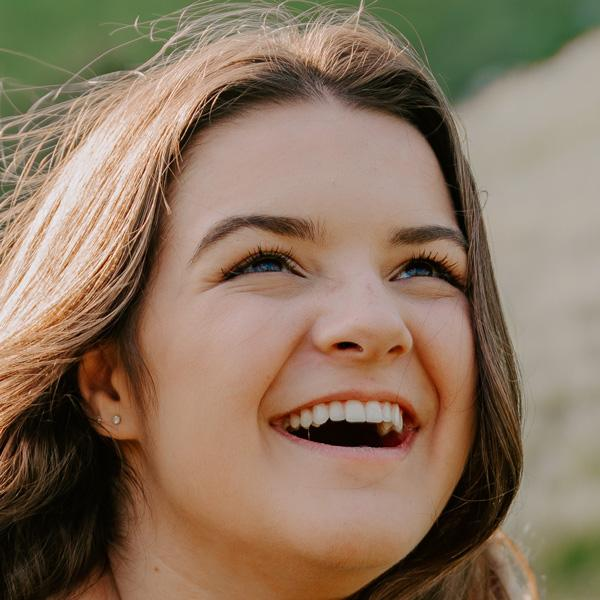Eyes: (208, 235, 322, 299), (374, 246, 472, 305)
